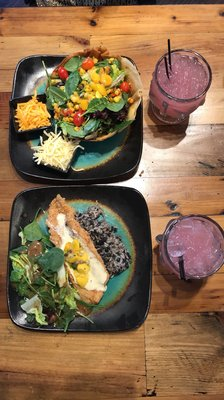sushi: (6, 186, 151, 333), (6, 41, 144, 184)
